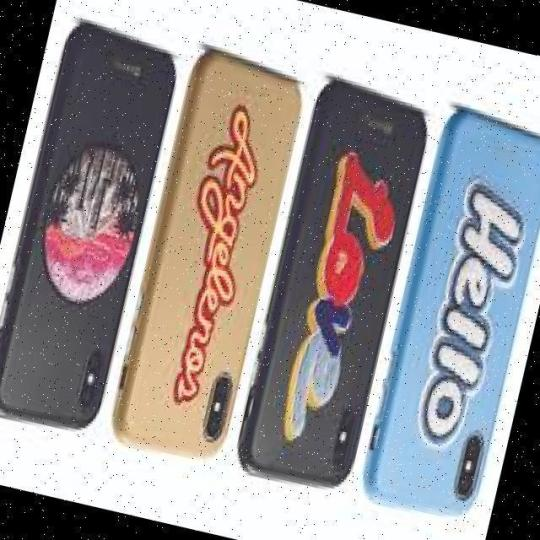phone: (106, 39, 302, 462), (238, 58, 428, 486), (1, 27, 188, 432), (356, 110, 540, 521)
